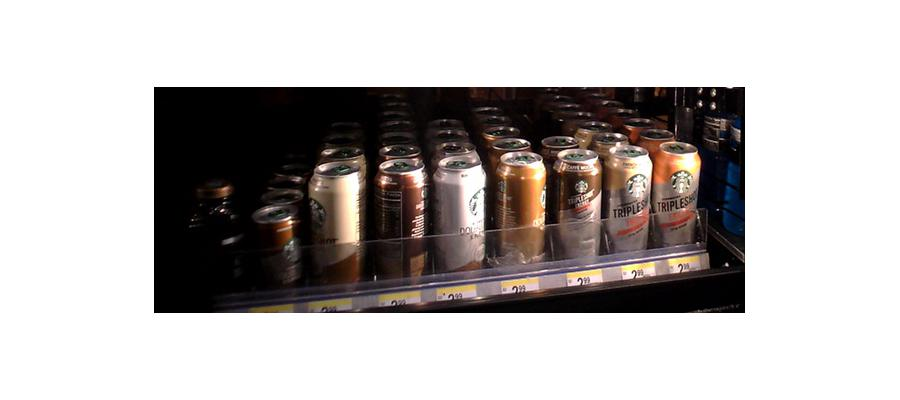bottle: (372, 146, 428, 283), (308, 153, 364, 289), (491, 143, 548, 265), (433, 146, 487, 271), (552, 143, 602, 259), (653, 136, 703, 251), (244, 186, 298, 292), (603, 142, 650, 253)
